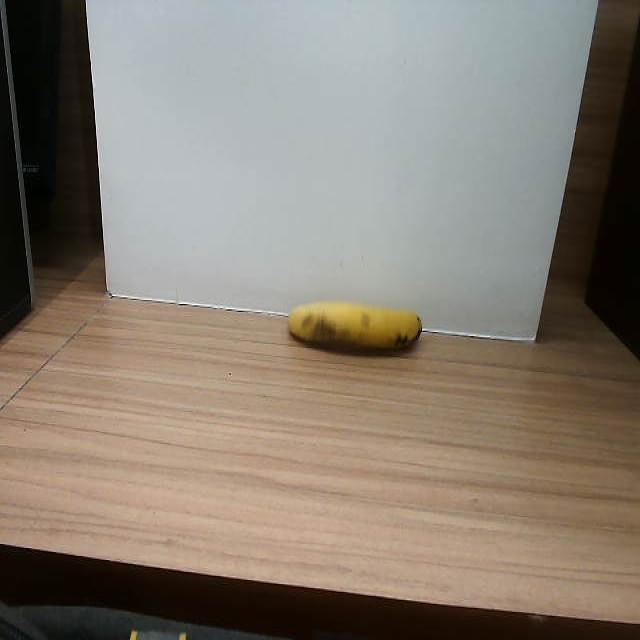Overripe: (285, 291, 428, 372)
